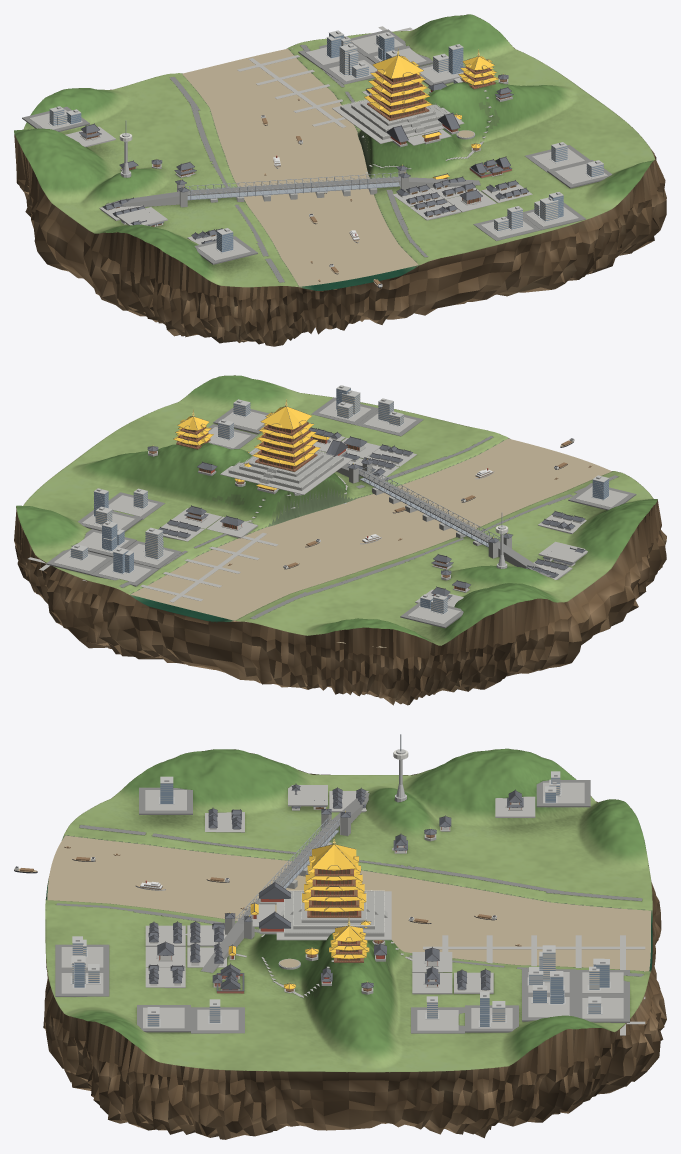
The picture shows the model from 3 angles, top to bottom: view 1: azimuth 30°, elevation 25°; view 2: azimuth 150°, elevation 25°; view 3: azimuth 270°, elevation 25°; orthographic projection. The views are drawn at different scales.
Visible parts, largest first — view 1: Island, Water, CraneTower, Bridge, Park, City.002, Roads, City, City.001, Town, Town.002, City.004 (+3 smaller); view 2: Island, Water, CraneTower, City.002, Bridge, Roads, Park, City, City.003, City.001, Town.001, Town.002 (+4 smaller); view 3: Island, Water, CraneTower, City.002, Park, Roads, Bridge, City.003, City.001, City, Town, Town.002 (+4 smaller).
Boxes of the visible parts, box(x1,y1,x2,y2) form: Island: box(14, 14, 666, 346); Water: box(182, 48, 435, 286); CraneTower: box(340, 48, 448, 139); Bridge: box(106, 164, 480, 207); Park: box(332, 49, 513, 179); City.002: box(298, 29, 432, 84); Roads: box(169, 26, 428, 282); City: box(473, 192, 585, 240); City.001: box(525, 142, 612, 188); Town: box(392, 184, 532, 220); Town.002: box(65, 123, 216, 244); City.004: box(194, 228, 257, 264); Island: box(14, 375, 666, 705); Water: box(126, 438, 611, 647); CraneTower: box(228, 399, 344, 490); City.002: box(46, 521, 181, 586); Bridge: box(336, 458, 551, 576); Roads: box(28, 436, 618, 619); Park: box(147, 409, 352, 522); City: box(311, 385, 423, 436); City.003: box(78, 488, 164, 531); City.001: box(208, 399, 269, 449); Town.001: box(161, 505, 257, 541); Town.002: box(415, 515, 587, 606); Island: box(43, 748, 666, 1139); Water: box(47, 835, 650, 971); CraneTower: box(281, 836, 387, 936); City.002: box(522, 945, 629, 1022); Park: box(185, 881, 412, 997); Roads: box(56, 825, 645, 1035); Bridge: box(201, 792, 369, 972); City.003: box(411, 991, 518, 1033); City.001: box(137, 999, 244, 1033); City: box(55, 936, 109, 996); Town: box(145, 925, 226, 987); Town.002: box(205, 785, 535, 832).
Bounding box in the file's own units: 196 × 69.89 × 176.
